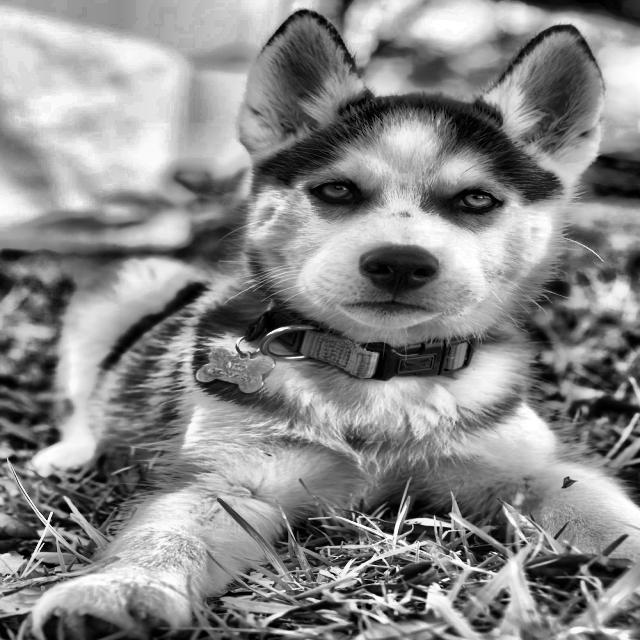husky: (202, 0, 627, 377)
